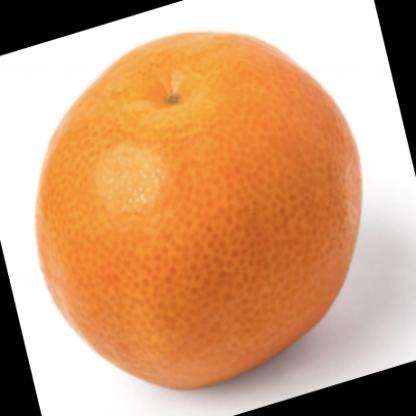orange: (26, 29, 368, 394)
